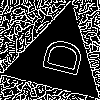D: (32, 33, 85, 79)
